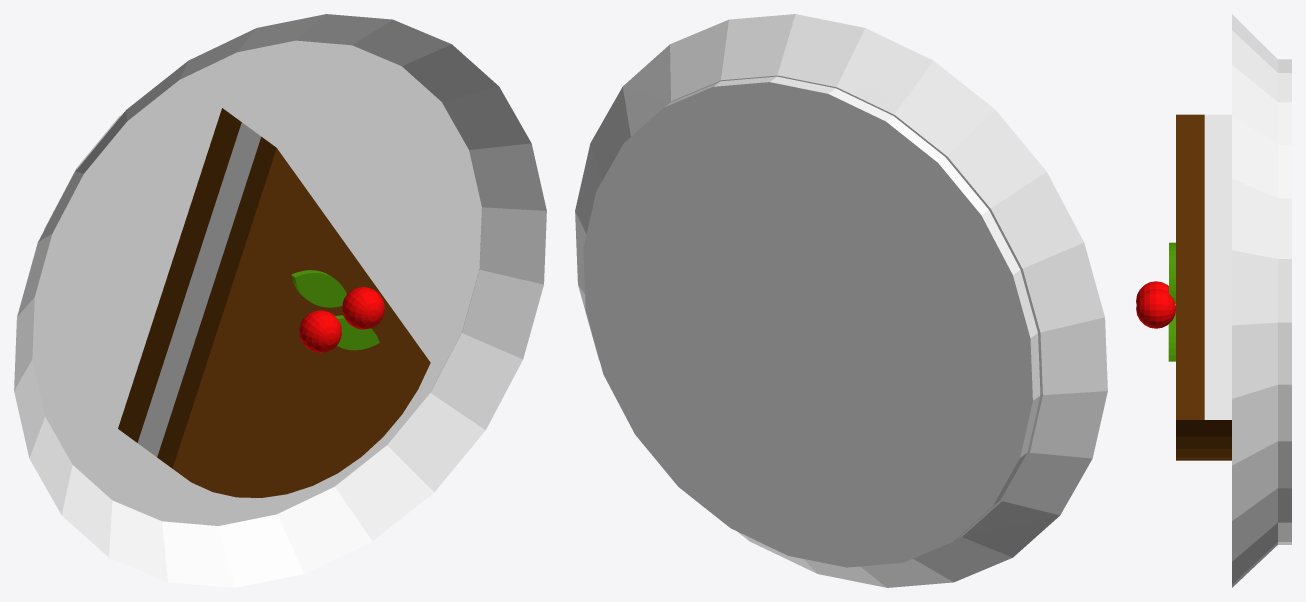
3 views of the same model, side by side, from view 1: azimuth 30°, elevation 25°; view 2: azimuth 150°, elevation 25°; view 3: azimuth 270°, elevation 25° (orthographic). The views are drawn at different scales.
Parts seen in each view (by area): view 1: cake; view 2: cake; view 3: cake.
Part boxes in pixels (x1,y1,x2,y2): cake: (14,14,546,587); cake: (575,14,1107,587); cake: (1136,14,1291,587).
Size of the model in its own units: 949 by 949 by 258.
